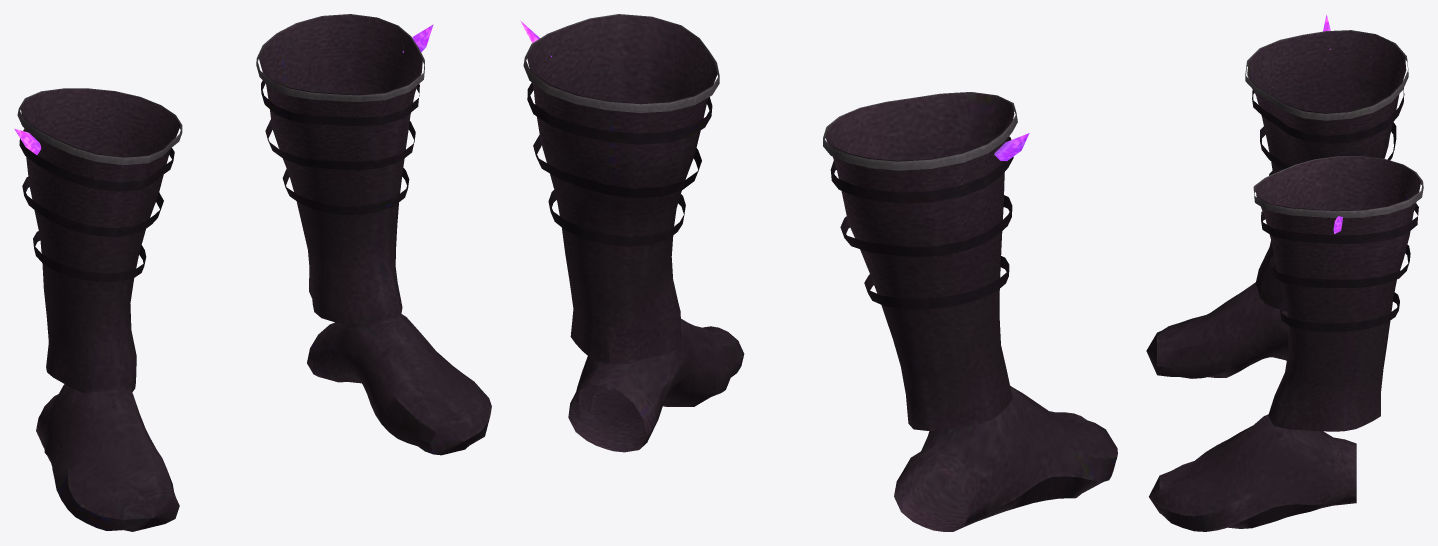
File: Botas_de_Couro_nivel50.glb
3 views of the same model, side by side, from view 1: azimuth 30°, elevation 25°; view 2: azimuth 150°, elevation 25°; view 3: azimuth 270°, elevation 25° (orthographic). The views are drawn at different scales.
Parts seen in each view (by area): view 1: botas_de_couro_nivel50; view 2: botas_de_couro_nivel50; view 3: botas_de_couro_nivel50.
Boxes of the visible parts, x1,y1,x2,y2 form: botas_de_couro_nivel50: (14,14,491,531); botas_de_couro_nivel50: (520,14,1117,531); botas_de_couro_nivel50: (1146,14,1423,531).
Bounding box in the file's own units: 0.5266 × 0.404 × 0.3078.
Materials: 1 (1 with a texture image).
